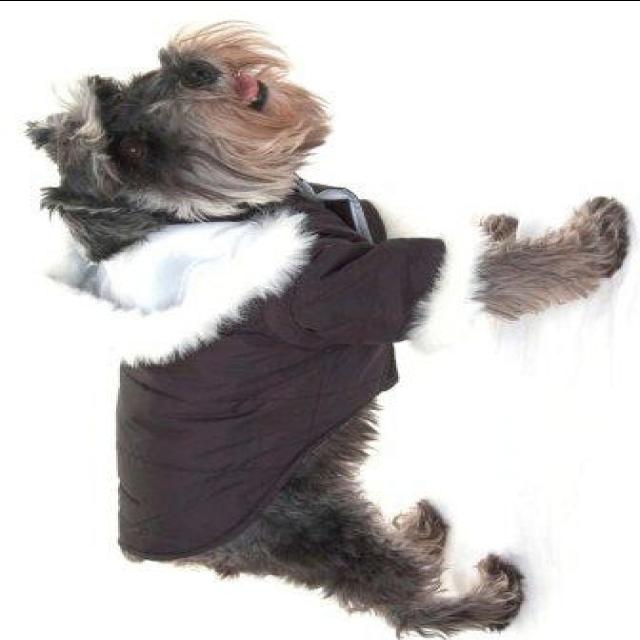standard_schnauzer: (21, 13, 638, 640)
